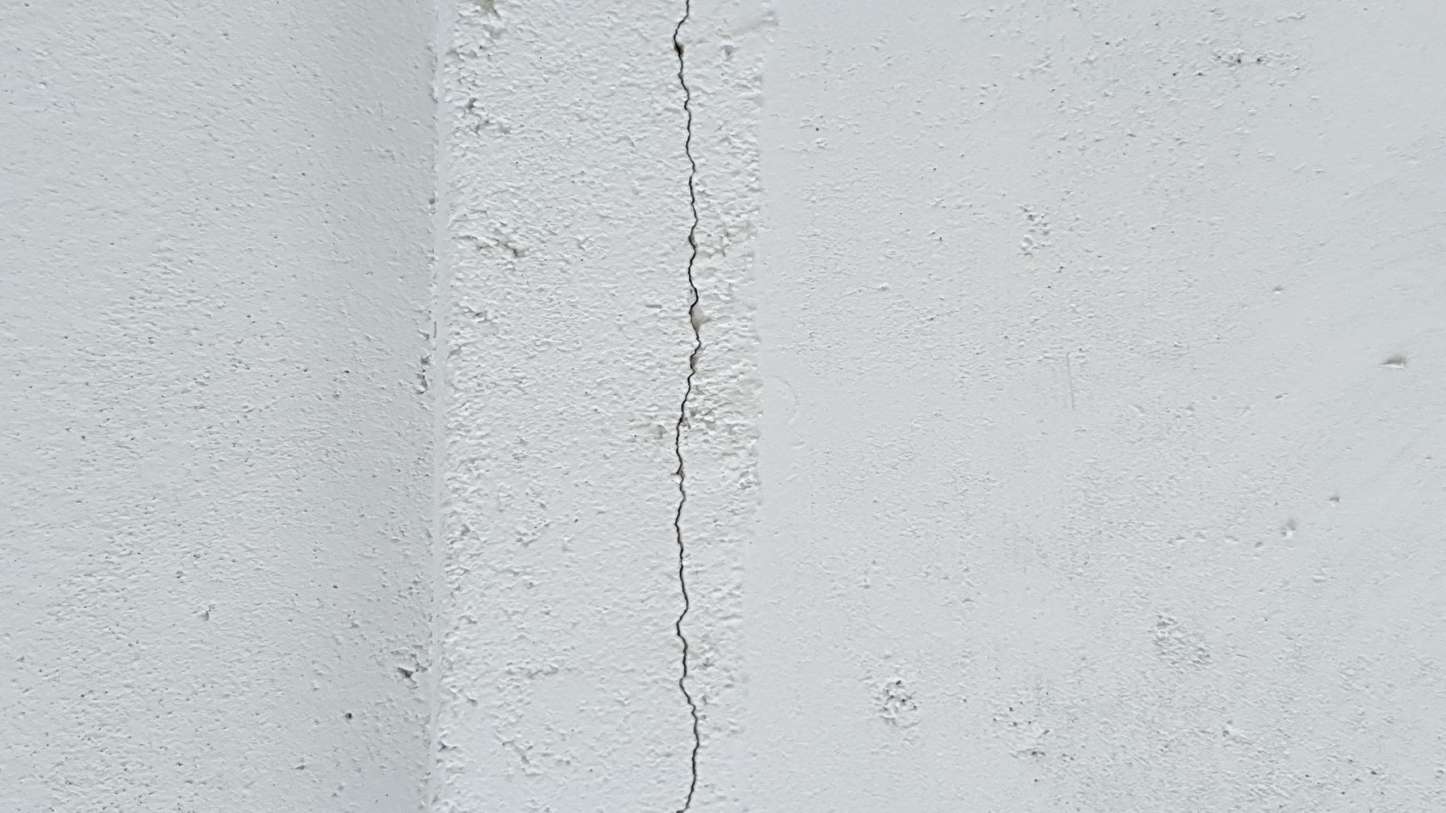crack: (661, 2, 713, 804)
